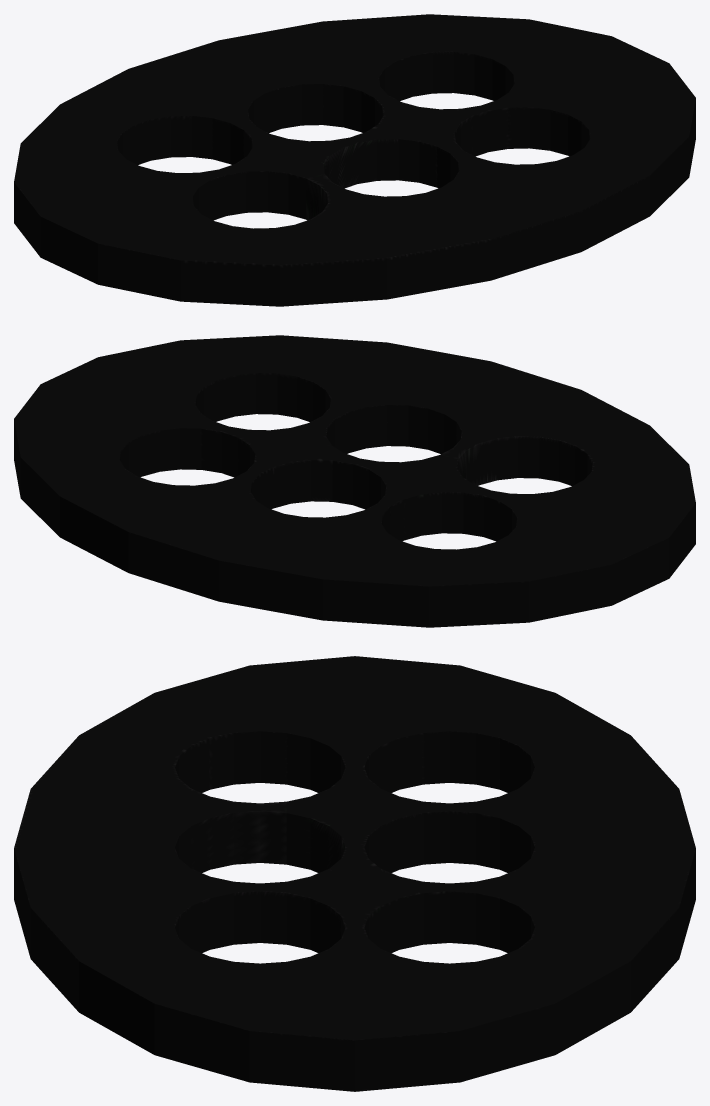
File: LeguLeteron_Braille_FingerFrame.fbx
The picture shows the model from 3 angles, top to bottom: view 1: azimuth 30°, elevation 25°; view 2: azimuth 150°, elevation 25°; view 3: azimuth 270°, elevation 25°; orthographic projection. The views are drawn at different scales.
Visible parts, largest first — view 1: node_id762; view 2: node_id762; view 3: node_id762.
Boxes of the visible parts, box(x1,y1,x2,y2) form: node_id762: box(14, 14, 695, 306); node_id762: box(14, 335, 695, 627); node_id762: box(14, 656, 695, 1091).
Bounding box in the file's own units: 0.6734 × 0.0589 × 0.5051.
1 material, 1 textured.
